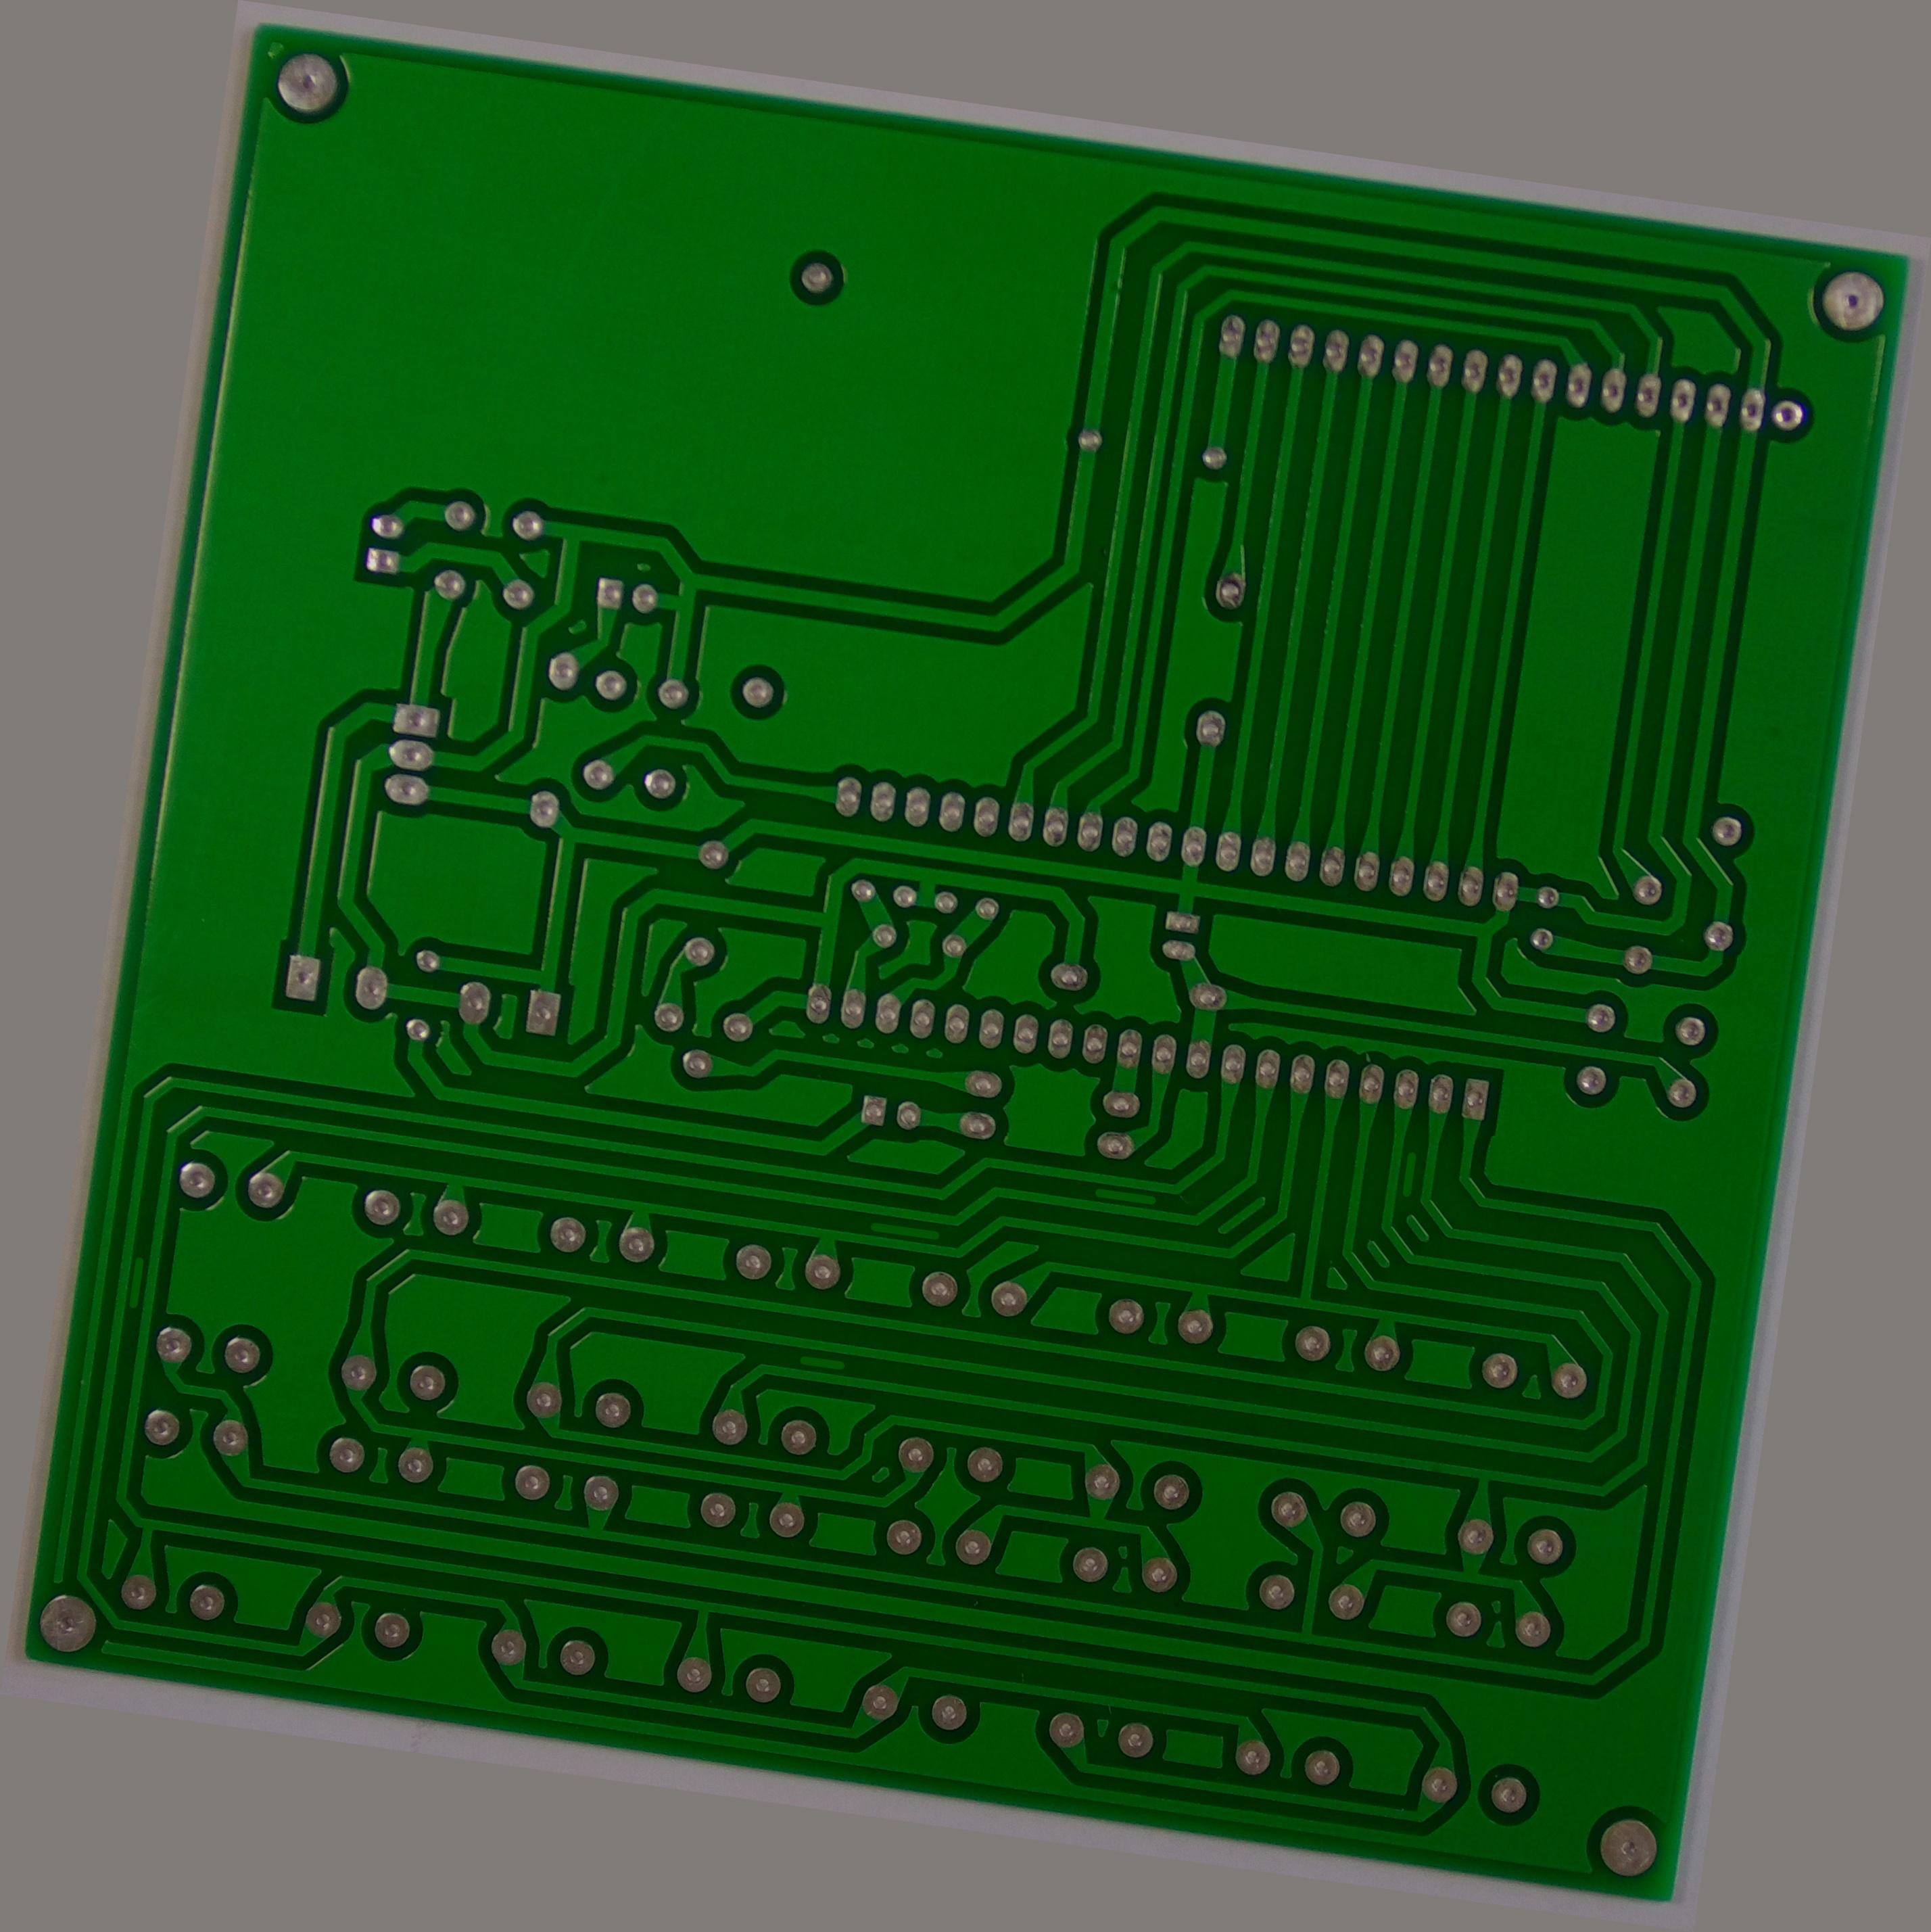spurious_copper: (110, 1242, 159, 1322), (861, 1214, 944, 1254), (1086, 1177, 1164, 1217), (785, 1343, 854, 1384), (1388, 1143, 1423, 1203)
